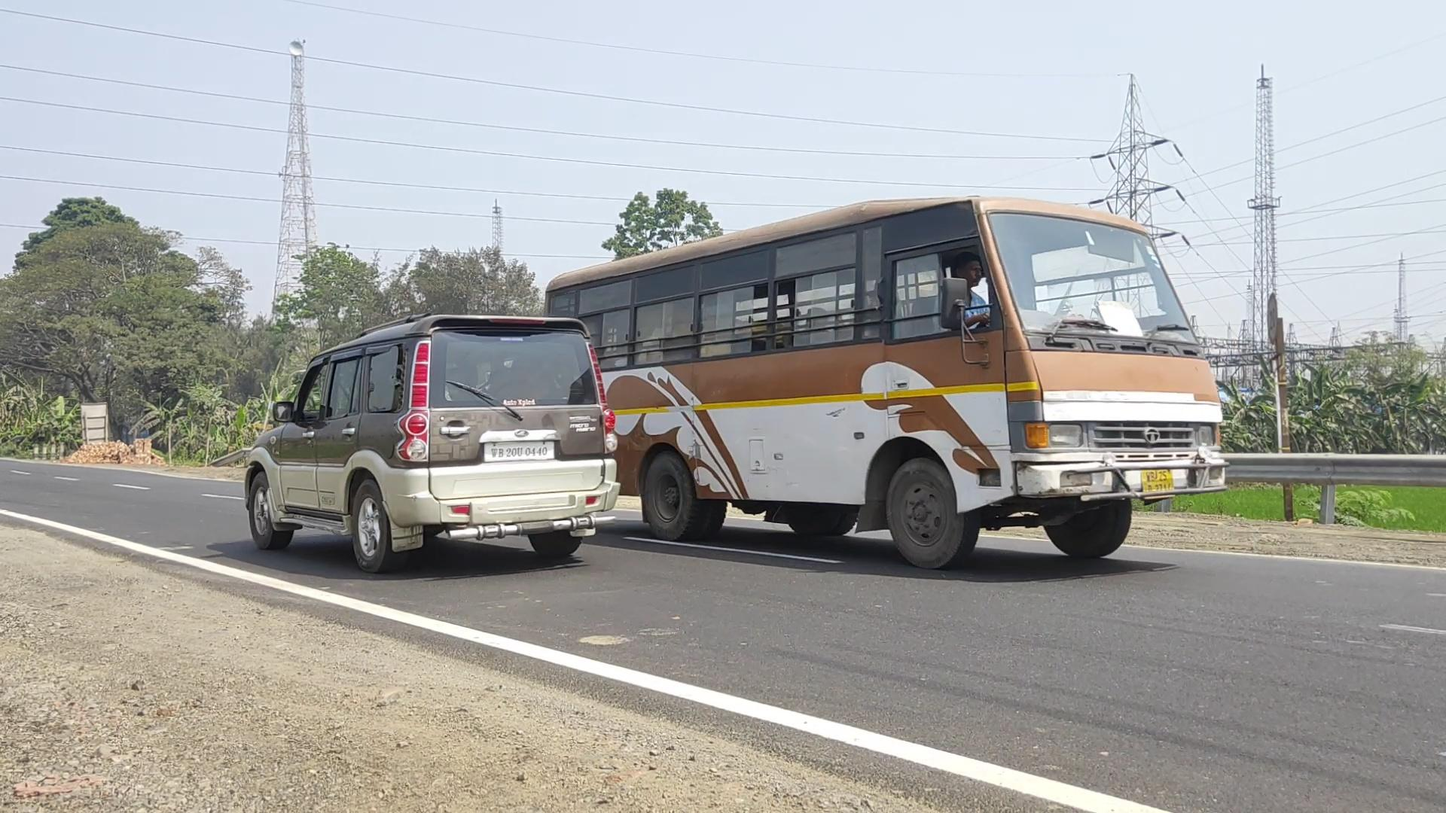Bus: (544, 194, 1229, 571)
car: (243, 312, 621, 574)
